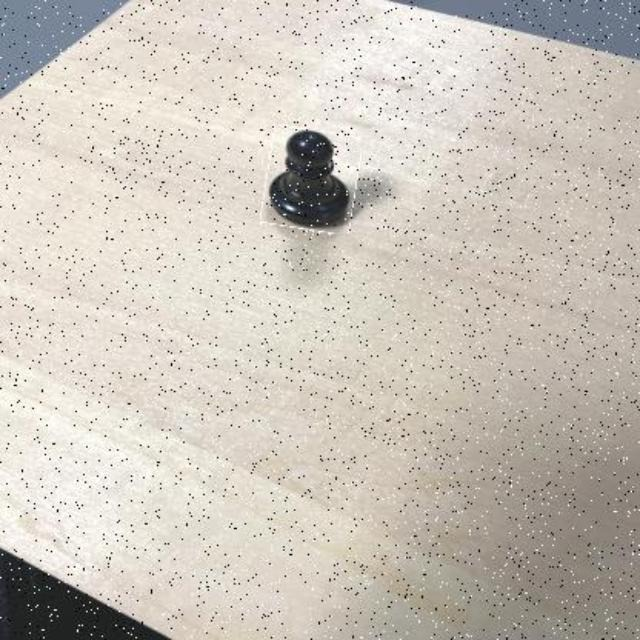black-pawn: (264, 128, 360, 232)
